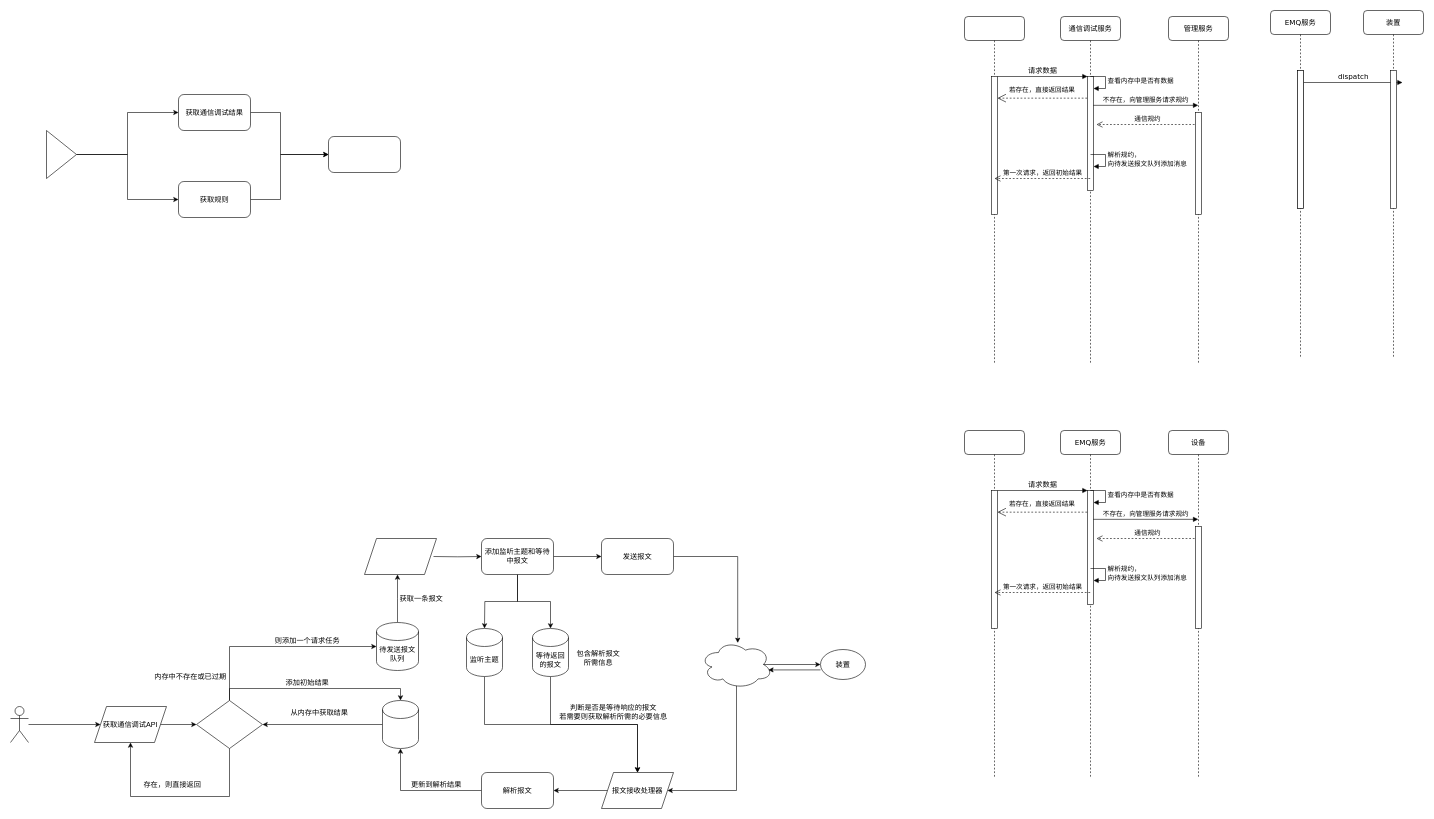
Some shapes in this 1434 by 819 pixel diagram are drawn without their labels. The shapes that lost their labels are listed below. From the top down, each one's centre as x and y in pixels, then its label:
At (x=364, y=154): "解析得到结果".
At (x=994, y=190): "WxMiniApp".
At (x=400, y=556): "报文发送定时任务".
At (x=994, y=604): "报文发送 定时任务".
At (x=736, y=664): "EMQ".
At (x=19, y=724): "Wx".
At (x=229, y=724): "内存中是否存在".
At (x=400, y=724): "通信调试结果".
